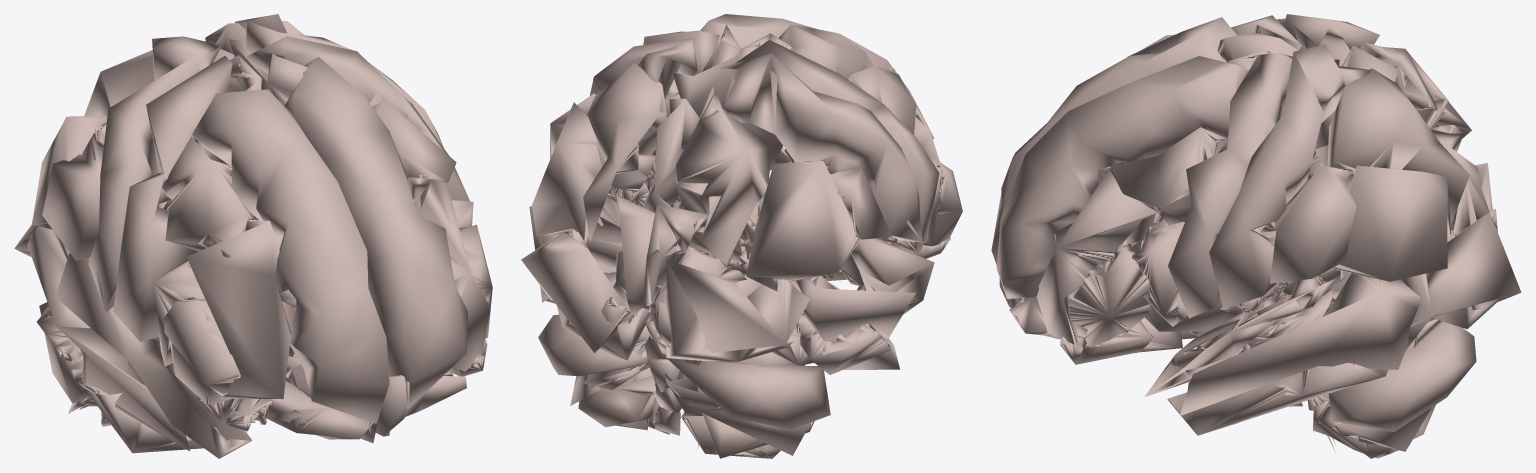
File: atlas_nervous_mni152.nervous.LOD4.glb
3 views of the same model, side by side, from view 1: azimuth 30°, elevation 25°; view 2: azimuth 150°, elevation 25°; view 3: azimuth 270°, elevation 25° (orthographic). The views are drawn at different scales.
Visible parts, largest first — view 1: ATLAS.NERVOUS.MNI152.NERVOUS.SUPERIOR_FRONTAL_GYRUS.R, ATLAS.NERVOUS.MNI152.NERVOUS.SUPERIOR_FRONTAL_GYRUS.L, ATLAS.NERVOUS.MNI152.NERVOUS.PRECENTRAL_GYRUS.R, ATLAS.NERVOUS.MNI152.NERVOUS.ROSTRAL_MIDDLE_FRONTAL_GYRUS.R, ATLAS.NERVOUS.MNI152.NERVOUS.POSTCENTRAL_GYRUS.R, ATLAS.NERVOUS.MNI152.NERVOUS.SUPERIOR_TEMPORAL_GYRUS.R, ATLAS.NERVOUS.MNI152.NERVOUS.MIDDLE_TEMPORAL_GYRUS.R, ATLAS.NERVOUS.MNI152.NERVOUS.INFERIOR_FRONTAL_GYRUS_PARS_TRI (×2), ATLAS.NERVOUS.MNI152.NERVOUS.CAUDAL_MIDDLE_FRONTAL_GYRUS.R, ATLAS.NERVOUS.MNI152.NERVOUS.SUPRAMARGINAL_GYRUS.R, ATLAS.NERVOUS.MNI152.NERVOUS.PRECENTRAL_GYRUS.L, ATLAS.NERVOUS.MNI152.NERVOUS.ROSTRAL_MIDDLE_FRONTAL_GYRUS.L (+15 smaller); view 2: ATLAS.NERVOUS.MNI152.NERVOUS.INFERIOR_PARIETAL_LOBULE_ANGULA (×2), ATLAS.NERVOUS.MNI152.NERVOUS.POSTCENTRAL_GYRUS.R, ATLAS.NERVOUS.MNI152.NERVOUS.LATERAL_OCCIPITAL_CORTEX.R, ATLAS.NERVOUS.MNI152.NERVOUS.SUPERIOR_PARIETAL_LOBULE.R, ATLAS.NERVOUS.MNI152.NERVOUS.CRUS_I.R, ATLAS.NERVOUS.MNI152.NERVOUS.SUPERIOR_PARIETAL_LOBULE.L, ATLAS.NERVOUS.MNI152.NERVOUS.LATERAL_OCCIPITAL_CORTEX.L, ATLAS.NERVOUS.MNI152.NERVOUS.PRECENTRAL_GYRUS.R, ATLAS.NERVOUS.MNI152.NERVOUS.MIDDLE_TEMPORAL_GYRUS.R, ATLAS.NERVOUS.MNI152.NERVOUS.CUNEUS.R, ATLAS.NERVOUS.MNI152.NERVOUS.SUPERIOR_TEMPORAL_GYRUS.R, ATLAS.NERVOUS.MNI152.NERVOUS.INFERIOR_TEMPORAL_GYRUS.R (+34 smaller); view 3: ATLAS.NERVOUS.MNI152.NERVOUS.SUPERIOR_FRONTAL_GYRUS.L, ATLAS.NERVOUS.MNI152.NERVOUS.POSTCENTRAL_GYRUS.L, ATLAS.NERVOUS.MNI152.NERVOUS.MIDDLE_TEMPORAL_GYRUS.L, ATLAS.NERVOUS.MNI152.NERVOUS.PRECENTRAL_GYRUS.L, ATLAS.NERVOUS.MNI152.NERVOUS.INFERIOR_PARIETAL_LOBULE_ANGULA, ATLAS.NERVOUS.MNI152.NERVOUS.SUPERIOR_PARIETAL_LOBULE.L, ATLAS.NERVOUS.MNI152.NERVOUS.CRUS_I.L, ATLAS.NERVOUS.MNI152.NERVOUS.ROSTRAL_MIDDLE_FRONTAL_GYRUS.L, ATLAS.NERVOUS.MNI152.NERVOUS.LATERAL_OCCIPITAL_CORTEX.L, ATLAS.NERVOUS.MNI152.NERVOUS.SUPRAMARGINAL_GYRUS.L, ATLAS.NERVOUS.MNI152.NERVOUS.SUPERIOR_FRONTAL_GYRUS.R, ATLAS.NERVOUS.MNI152.NERVOUS.INFERIOR_TEMPORAL_GYRUS.L (+19 smaller).
Boxes of the visible parts, x1,y1,x2,y2 form: ATLAS.NERVOUS.MNI152.NERVOUS.SUPERIOR_FRONTAL_GYRUS.R: (192, 89, 389, 423); ATLAS.NERVOUS.MNI152.NERVOUS.SUPERIOR_FRONTAL_GYRUS.L: (284, 57, 467, 409); ATLAS.NERVOUS.MNI152.NERVOUS.PRECENTRAL_GYRUS.R: (113, 56, 232, 341); ATLAS.NERVOUS.MNI152.NERVOUS.ROSTRAL_MIDDLE_FRONTAL_GYRUS.R: (186, 220, 291, 399); ATLAS.NERVOUS.MNI152.NERVOUS.POSTCENTRAL_GYRUS.R: (88, 36, 221, 312); ATLAS.NERVOUS.MNI152.NERVOUS.SUPERIOR_TEMPORAL_GYRUS.R: (55, 253, 252, 458); ATLAS.NERVOUS.MNI152.NERVOUS.MIDDLE_TEMPORAL_GYRUS.R: (27, 226, 189, 451); ATLAS.NERVOUS.MNI152.NERVOUS.INFERIOR_FRONTAL_GYRUS_PARS_TRI (×2): (163, 224, 492, 404); ATLAS.NERVOUS.MNI152.NERVOUS.CAUDAL_MIDDLE_FRONTAL_GYRUS.R: (162, 136, 255, 257); ATLAS.NERVOUS.MNI152.NERVOUS.SUPRAMARGINAL_GYRUS.R: (42, 127, 104, 260); ATLAS.NERVOUS.MNI152.NERVOUS.PRECENTRAL_GYRUS.L: (246, 36, 470, 201); ATLAS.NERVOUS.MNI152.NERVOUS.ROSTRAL_MIDDLE_FRONTAL_GYRUS.L: (407, 177, 490, 371); ATLAS.NERVOUS.MNI152.NERVOUS.INFERIOR_PARIETAL_LOBULE_ANGULA (×2): (532, 102, 860, 291); ATLAS.NERVOUS.MNI152.NERVOUS.POSTCENTRAL_GYRUS.R: (719, 53, 922, 241); ATLAS.NERVOUS.MNI152.NERVOUS.LATERAL_OCCIPITAL_CORTEX.R: (666, 259, 809, 361); ATLAS.NERVOUS.MNI152.NERVOUS.SUPERIOR_PARIETAL_LOBULE.R: (676, 91, 771, 264); ATLAS.NERVOUS.MNI152.NERVOUS.CRUS_I.R: (666, 357, 830, 429); ATLAS.NERVOUS.MNI152.NERVOUS.SUPERIOR_PARIETAL_LOBULE.L: (583, 63, 666, 241); ATLAS.NERVOUS.MNI152.NERVOUS.LATERAL_OCCIPITAL_CORTEX.L: (521, 229, 627, 352); ATLAS.NERVOUS.MNI152.NERVOUS.PRECENTRAL_GYRUS.R: (735, 40, 939, 242); ATLAS.NERVOUS.MNI152.NERVOUS.MIDDLE_TEMPORAL_GYRUS.R: (789, 276, 915, 348); ATLAS.NERVOUS.MNI152.NERVOUS.CUNEUS.R: (643, 204, 734, 312); ATLAS.NERVOUS.MNI152.NERVOUS.SUPERIOR_TEMPORAL_GYRUS.R: (851, 239, 934, 314); ATLAS.NERVOUS.MNI152.NERVOUS.INFERIOR_TEMPORAL_GYRUS.R: (797, 314, 899, 374); ATLAS.NERVOUS.MNI152.NERVOUS.SUPERIOR_FRONTAL_GYRUS.L: (996, 56, 1248, 298); ATLAS.NERVOUS.MNI152.NERVOUS.POSTCENTRAL_GYRUS.L: (1209, 45, 1370, 309); ATLAS.NERVOUS.MNI152.NERVOUS.MIDDLE_TEMPORAL_GYRUS.L: (1179, 273, 1420, 415); ATLAS.NERVOUS.MNI152.NERVOUS.PRECENTRAL_GYRUS.L: (1168, 52, 1292, 318); ATLAS.NERVOUS.MNI152.NERVOUS.INFERIOR_PARIETAL_LOBULE_ANGULA: (1332, 165, 1451, 281); ATLAS.NERVOUS.MNI152.NERVOUS.SUPERIOR_PARIETAL_LOBULE.L: (1327, 68, 1469, 224); ATLAS.NERVOUS.MNI152.NERVOUS.CRUS_I.L: (1329, 320, 1476, 431); ATLAS.NERVOUS.MNI152.NERVOUS.ROSTRAL_MIDDLE_FRONTAL_GYRUS.L: (1036, 162, 1158, 344); ATLAS.NERVOUS.MNI152.NERVOUS.LATERAL_OCCIPITAL_CORTEX.L: (1400, 211, 1521, 350); ATLAS.NERVOUS.MNI152.NERVOUS.SUPRAMARGINAL_GYRUS.L: (1260, 166, 1356, 283); ATLAS.NERVOUS.MNI152.NERVOUS.SUPERIOR_FRONTAL_GYRUS.R: (991, 17, 1236, 264); ATLAS.NERVOUS.MNI152.NERVOUS.INFERIOR_TEMPORAL_GYRUS.L: (1167, 363, 1388, 435).
Bounding box in the file's own units: 0.1445 × 0.1575 × 0.1823.
